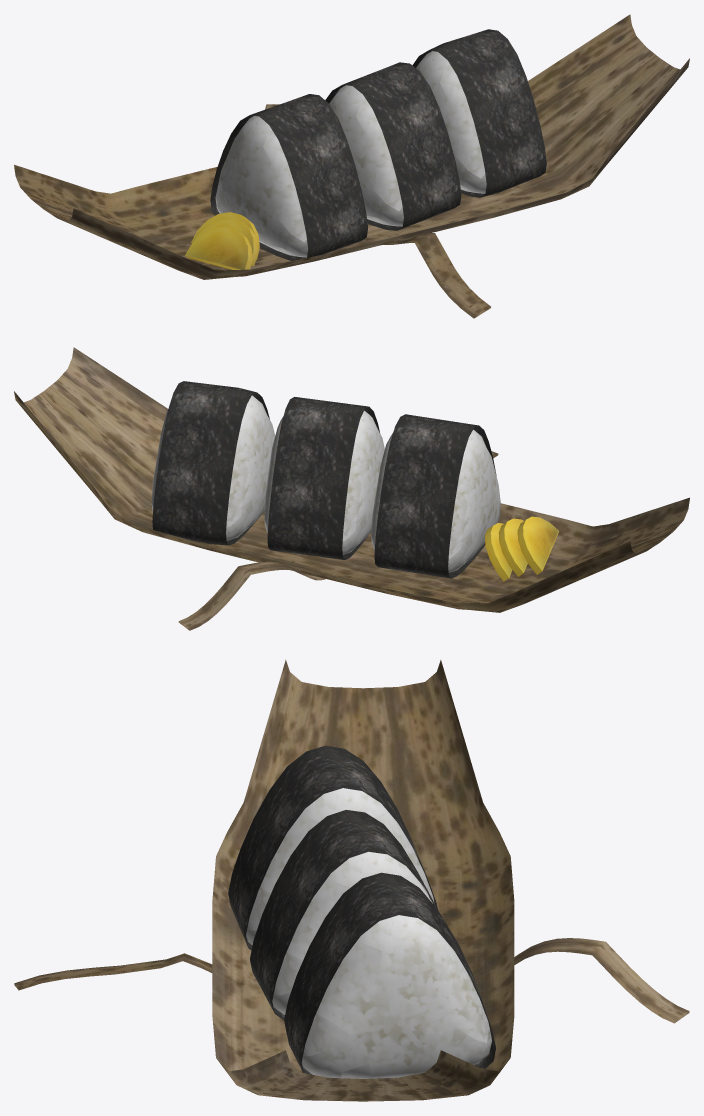
File: RiceBall01.fbx
3 renders of one model, top to bottom at view 1: azimuth 30°, elevation 25°; view 2: azimuth 150°, elevation 25°; view 3: azimuth 270°, elevation 25°, orthographic. The views are drawn at different scales.
Parts seen in each view (by area): view 1: RiceBall01; view 2: RiceBall01; view 3: RiceBall01.
Boxes of the visible parts, x1,y1,x2,y2 form: RiceBall01: (14,14,689,318); RiceBall01: (14,347,689,630); RiceBall01: (14,659,689,1101).
Size of the model in its own units: 34.43 by 7.44 by 25.17.
